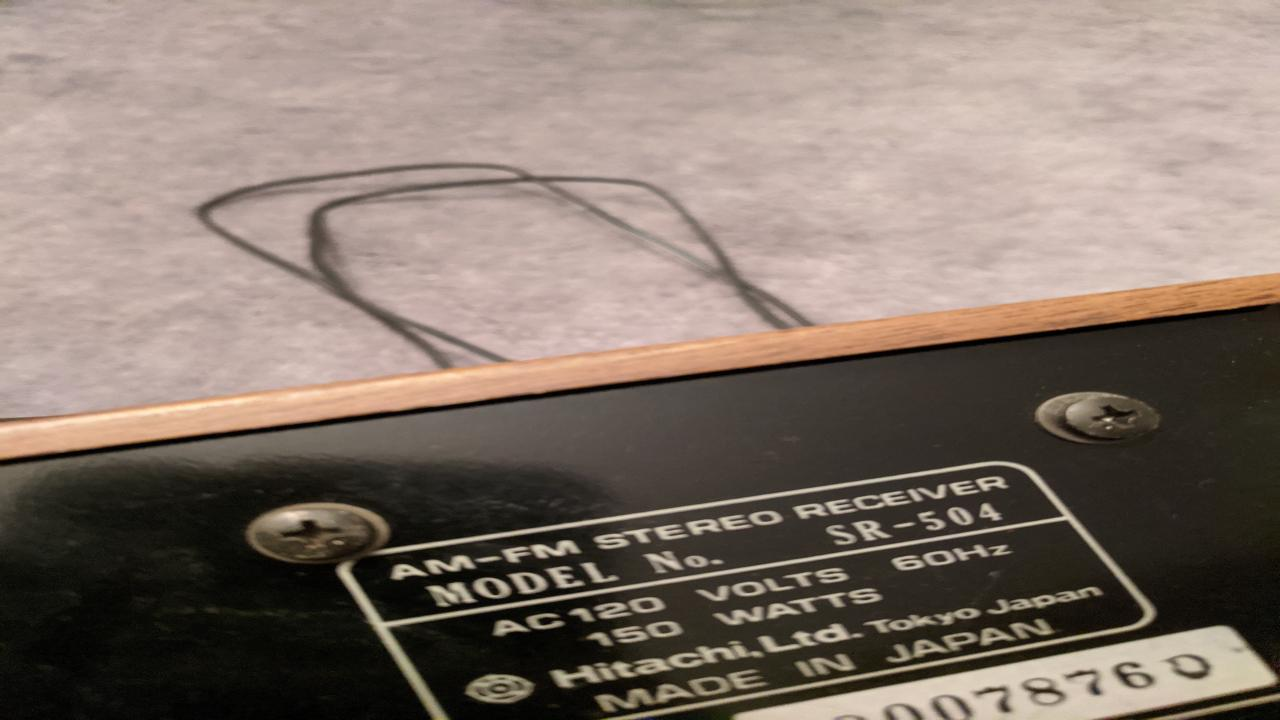CRS: (250, 506, 384, 561), (1059, 396, 1164, 441)
